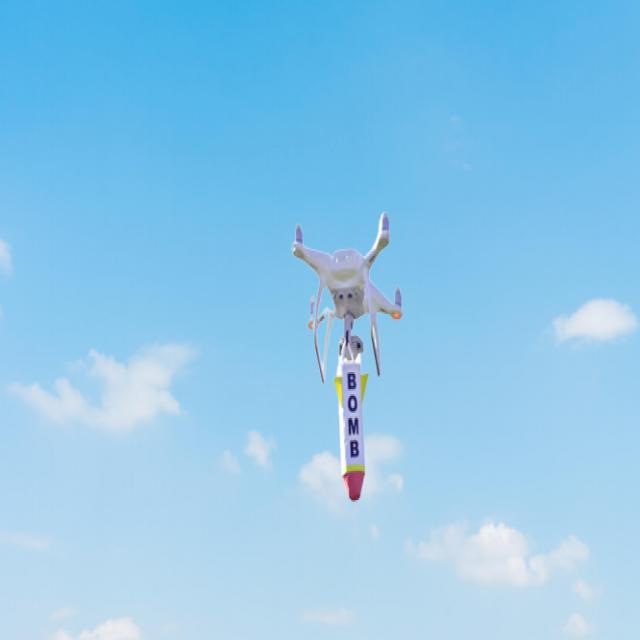drones: (274, 201, 420, 393)
